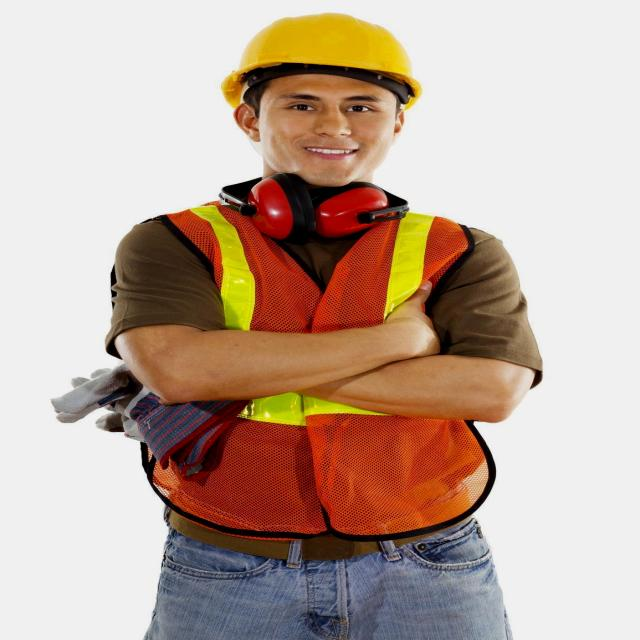face_nomask: (239, 70, 409, 186)
head_helmet: (220, 12, 419, 97)
person: (138, 10, 516, 640)
vest: (157, 225, 480, 528)
